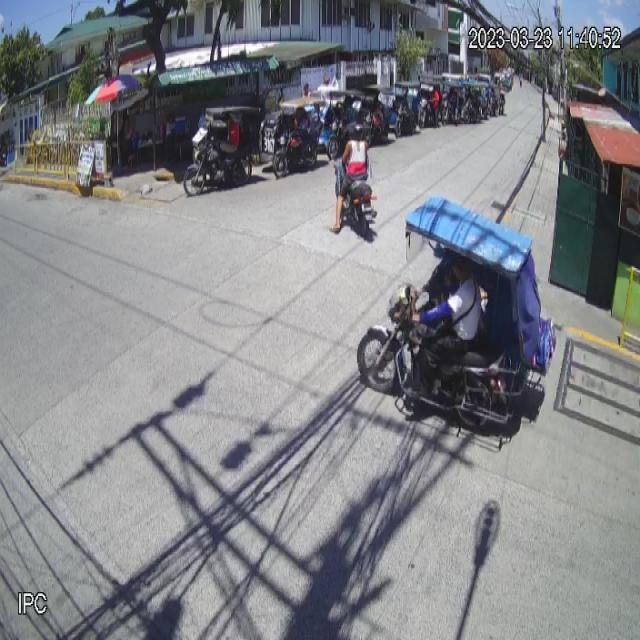Tricycle: (356, 198, 557, 438)
